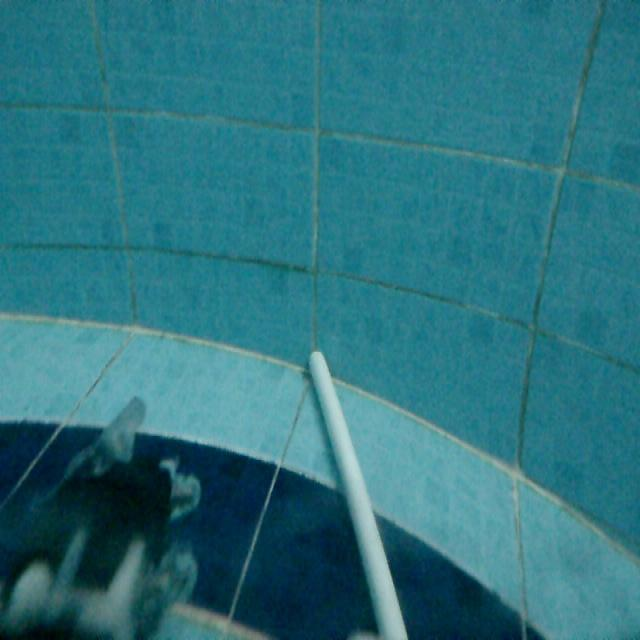Cube: (302, 342, 420, 638)
